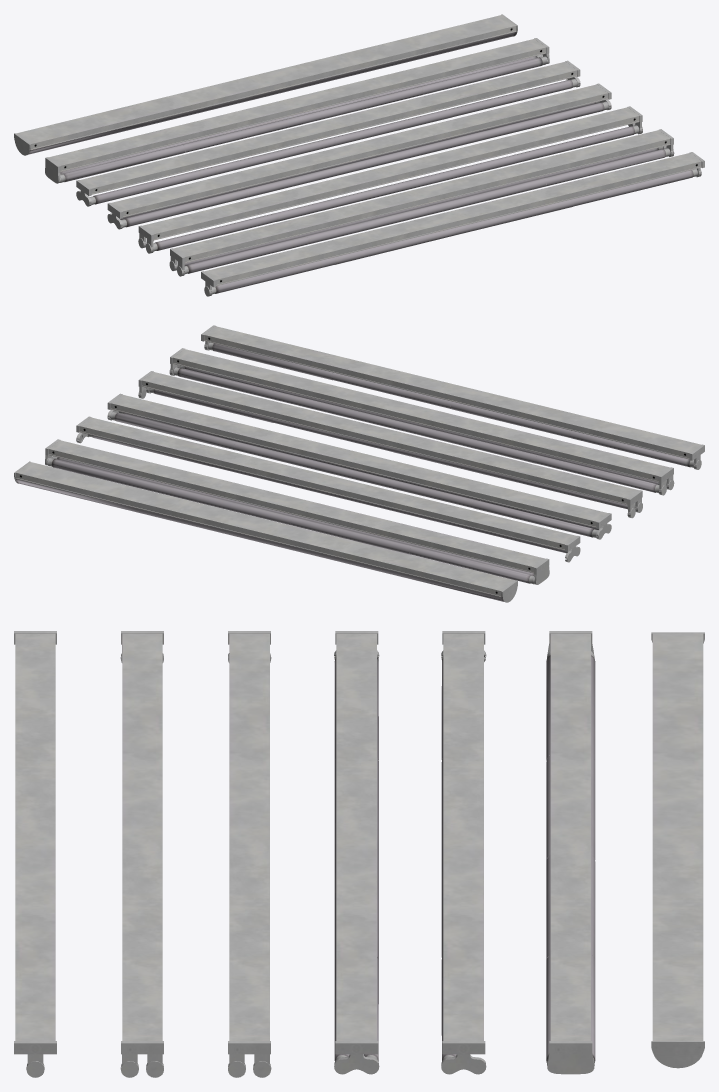
The model's file is mounted_fluorescent_lights.glb.
3 views of the same model, one above another, from view 1: azimuth 30°, elevation 25°; view 2: azimuth 150°, elevation 25°; view 3: azimuth 270°, elevation 25° (orthographic). The views are drawn at different scales.
Visible parts, largest first — view 1: mounted_fluorescent_lights_a; view 2: mounted_fluorescent_lights_a; view 3: mounted_fluorescent_lights_a.
Boxes of the visible parts, x1=… form: mounted_fluorescent_lights_a: x1=14, y1=14, x2=704, y2=296; mounted_fluorescent_lights_a: x1=14, y1=325, x2=704, y2=602; mounted_fluorescent_lights_a: x1=14, y1=631, x2=704, y2=1077.
Size of the model in its own units: 0.9122 by 0.0355 by 0.6454.
Materials: 2 (2 with a texture image).
